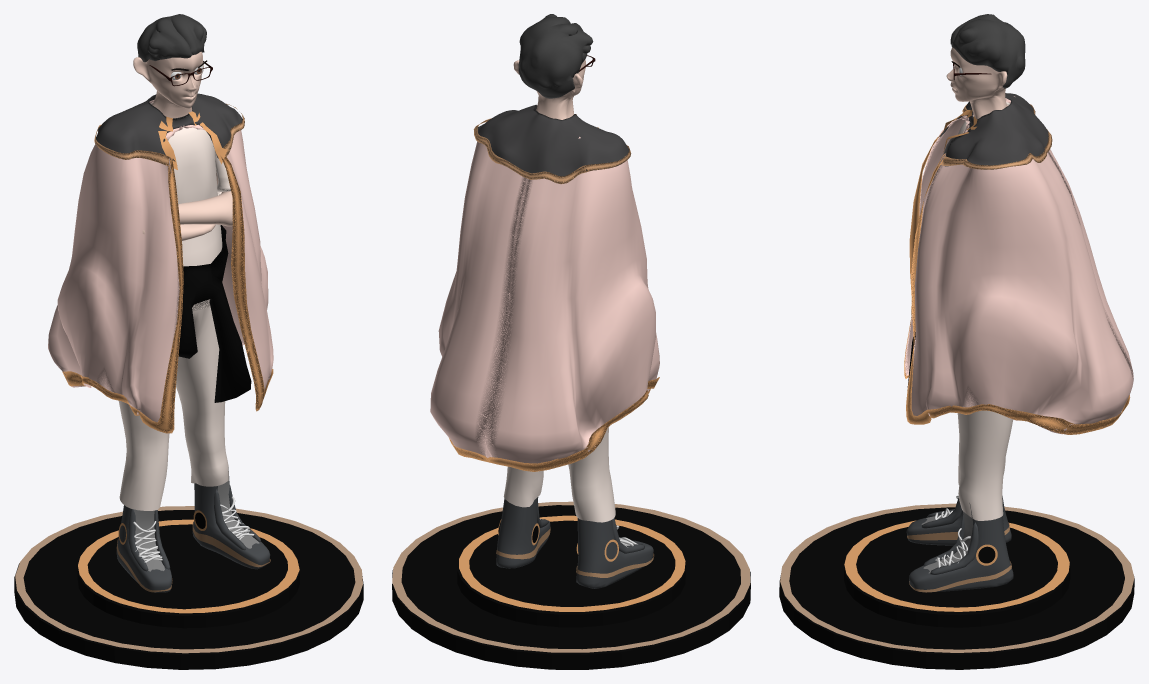
Rendered from justin3d.glb.
3 renders of one model, left to right at view 1: azimuth 30°, elevation 25°; view 2: azimuth 150°, elevation 25°; view 3: azimuth 270°, elevation 25°, orthographic. The views are drawn at different scales.
Visible parts, largest first — view 1: Circle.004, jubah.002, celana, jubvah warna.001, sarung, baju, baju.002, Circle.005, 3.007, 3, Circle.006, 3.005 (+7 smaller); view 2: jubah.002, Circle.004, baju.002, 3.007, 3.005, Circle.005, celana, Circle.006, jubvah warna.001, baju.003, 3, 3.008; view 3: jubah.002, Circle.004, celana, baju.002, Circle.005, 3.007, jubvah warna.001, 3.005, Circle.006, 3, 3.010, 3.008 (+2 smaller).
Boxes of the visible parts, bbox=[...] form: Circle.004: bbox=[14, 510, 363, 669]; jubah.002: bbox=[48, 100, 273, 422]; celana: bbox=[118, 306, 228, 510]; jubvah warna.001: bbox=[62, 155, 273, 433]; sarung: bbox=[178, 225, 251, 402]; baju: bbox=[151, 103, 230, 311]; baju.002: bbox=[95, 93, 242, 161]; Circle.005: bbox=[15, 506, 362, 653]; 3.007: bbox=[116, 483, 270, 592]; 3: bbox=[133, 51, 221, 192]; Circle.006: bbox=[78, 519, 299, 613]; 3.005: bbox=[137, 14, 206, 62]; jubah.002: bbox=[430, 137, 659, 463]; Circle.004: bbox=[392, 505, 750, 669]; baju.002: bbox=[477, 104, 629, 176]; 3.007: bbox=[496, 497, 653, 588]; 3.005: bbox=[518, 14, 593, 98]; Circle.005: bbox=[392, 501, 750, 652]; celana: bbox=[503, 427, 615, 522]; Circle.006: bbox=[459, 515, 685, 611]; jubvah warna.001: bbox=[449, 377, 659, 471]; baju.003: bbox=[473, 118, 631, 184]; 3: bbox=[513, 59, 585, 119]; 3.008: bbox=[496, 527, 654, 577]; jubah.002: bbox=[905, 96, 1133, 434]; Circle.004: bbox=[779, 507, 1134, 669]; celana: bbox=[957, 410, 1012, 520]; baju.002: bbox=[940, 93, 1048, 166]; Circle.005: bbox=[780, 503, 1134, 652]; 3.007: bbox=[906, 496, 1013, 592]; jubvah warna.001: bbox=[904, 132, 1130, 434]; 3.005: bbox=[950, 14, 1025, 88]; Circle.006: bbox=[844, 520, 1069, 611]; 3: bbox=[946, 47, 1008, 119]; 3.010: bbox=[921, 497, 978, 574]; 3.008: bbox=[907, 522, 1011, 592].
Bounding box in the file's own units: 1.06 × 1.9 × 1.06.
